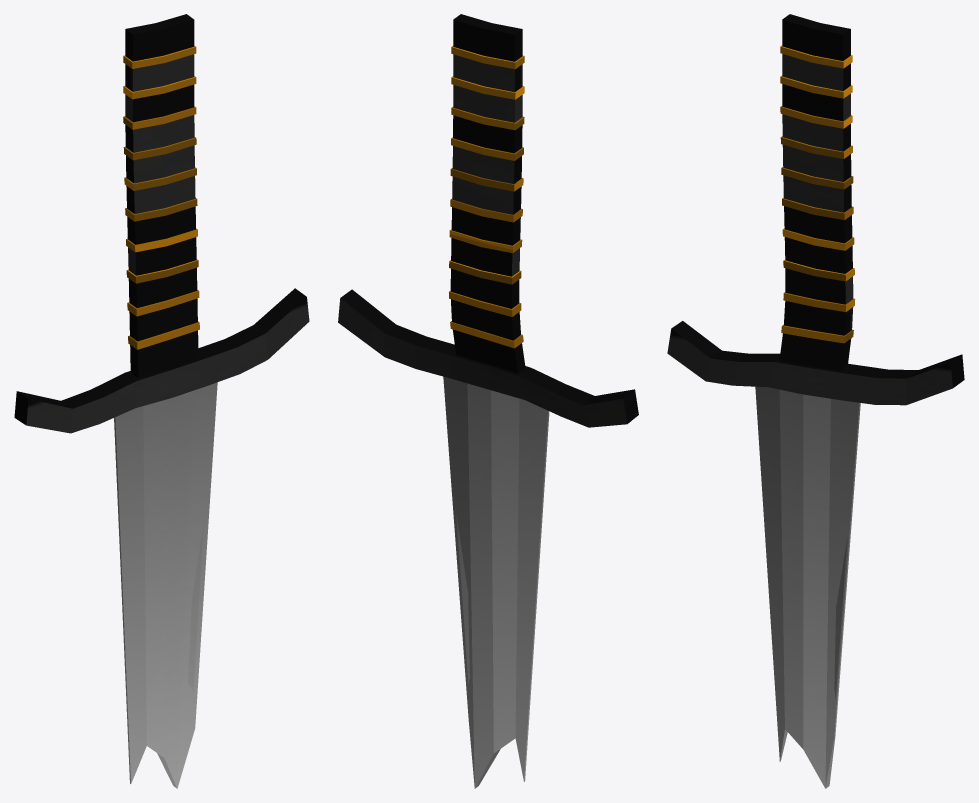
File: Damaged_Sword.fbx
3 views of the same model, side by side, from view 1: azimuth 30°, elevation 25°; view 2: azimuth 150°, elevation 25°; view 3: azimuth 330°, elevation 25° (orthographic).
Visible parts, largest first — view 1: Damaged Sword; view 2: Damaged Sword; view 3: Damaged Sword.
Part boxes in pixels (left/top/right/bottom): Damaged Sword: left=14, top=14, right=309, bottom=788; Damaged Sword: left=338, top=14, right=638, bottom=788; Damaged Sword: left=667, top=14, right=964, bottom=788.
Bounding box in the file's own units: 23.35 × 59.72 × 2.61.
